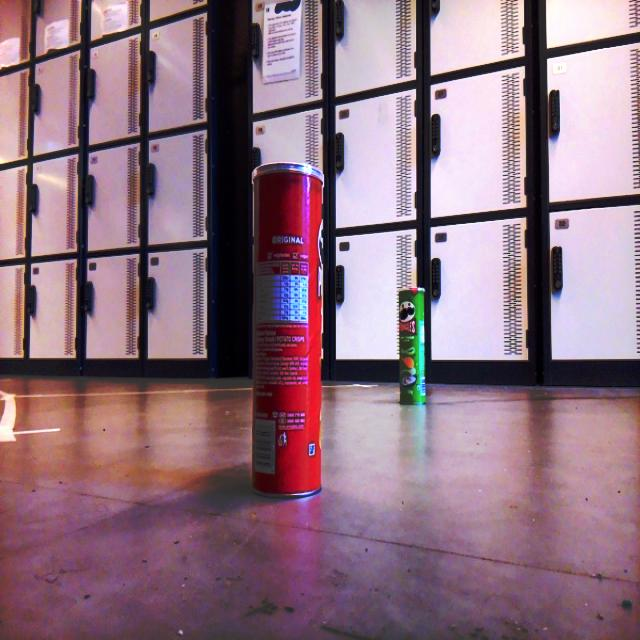greenpringles: (387, 274, 437, 410)
redpringles: (244, 150, 326, 503)
